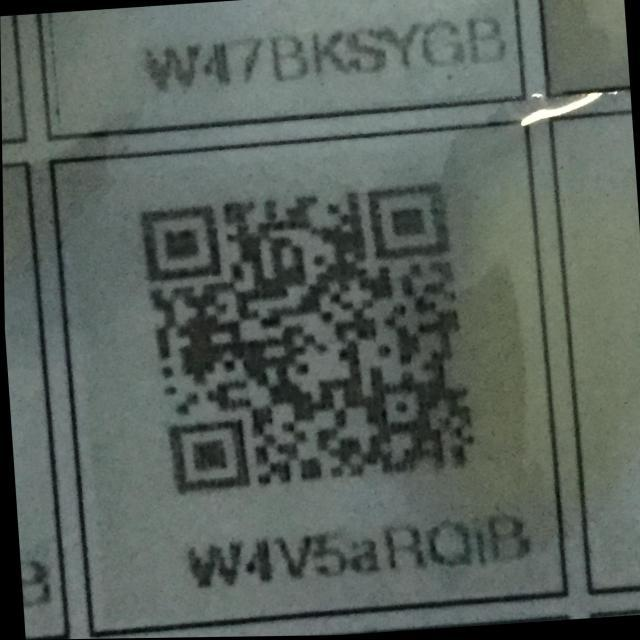QRCode: (127, 177, 490, 502)
